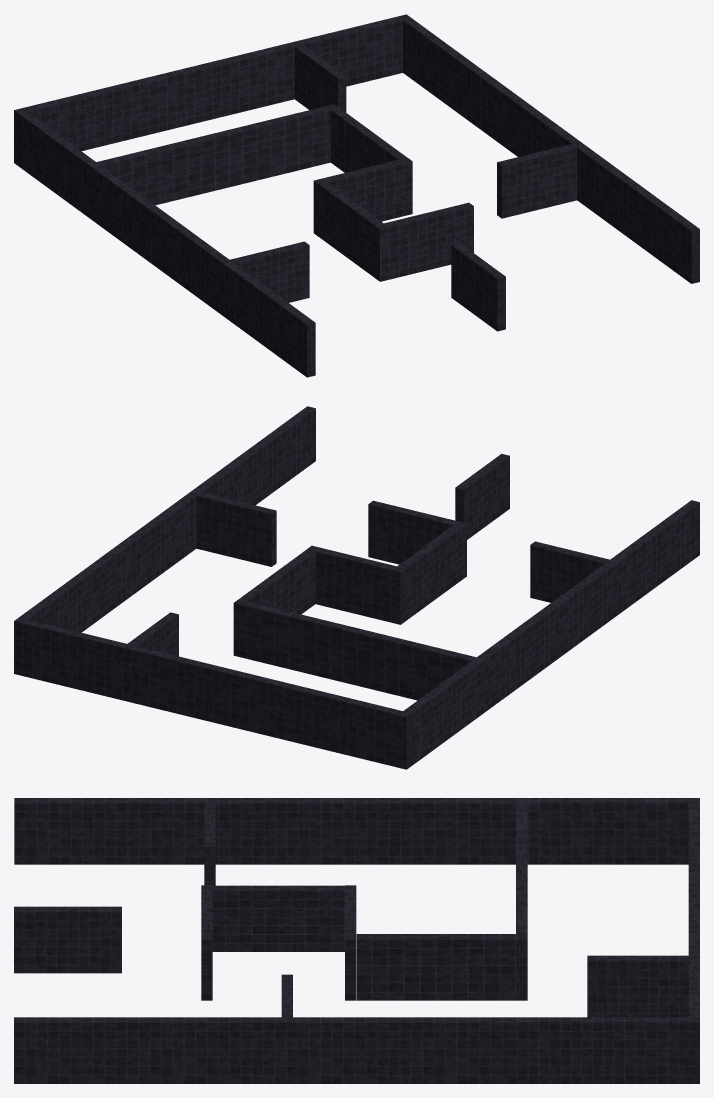
The picture shows the model from 3 angles, top to bottom: view 1: azimuth 30°, elevation 25°; view 2: azimuth 150°, elevation 25°; view 3: azimuth 270°, elevation 25°; orthographic projection. The views are drawn at different scales.
Parts seen in each view (by area): view 1: polySurface9, polySurface7, polySurface11, pCube65, pCube70, pCube71, pCube68, pCube69, pCube64, pCube72, pCube67, pCube54; view 2: polySurface9, polySurface7, polySurface11, pCube65, pCube68, pCube71, pCube70, pCube69, pCube64, pCube72, pCube67, pCube54; view 3: polySurface11, polySurface7, pCube67, pCube69, pCube64, pCube54, polySurface9, pCube65, pCube68, pCube70, pCube72, pCube71.
Boxes of the visible parts, x1,y1,x2,y2 form: polySurface9: [14, 14, 410, 166]; polySurface7: [19, 111, 315, 377]; polySurface11: [403, 18, 699, 283]; pCube65: [96, 104, 338, 205]; pCube70: [375, 202, 473, 281]; pCube71: [497, 144, 576, 218]; pCube68: [313, 157, 412, 236]; pCube69: [318, 182, 383, 277]; pCube64: [451, 243, 505, 331]; pCube72: [230, 241, 309, 302]; pCube67: [330, 108, 406, 172]; pCube54: [294, 44, 346, 112]; polySurface9: [14, 617, 411, 769]; polySurface7: [403, 500, 699, 765]; polySurface11: [19, 406, 315, 632]; pCube65: [233, 599, 476, 700]; pCube68: [307, 545, 405, 624]; pCube71: [196, 492, 276, 566]; pCube70: [368, 500, 466, 579]; pCube69: [397, 525, 461, 620]; pCube64: [455, 453, 509, 539]; pCube72: [530, 541, 609, 602]; pCube67: [239, 549, 315, 614]; pCube54: [127, 612, 178, 656]; polySurface11: [14, 1017, 688, 1083]; polySurface7: [14, 798, 688, 864]; pCube67: [356, 934, 515, 1000]; pCube69: [212, 885, 344, 951]; pCube64: [14, 906, 121, 973]; pCube54: [587, 955, 688, 1017]; polySurface9: [688, 798, 699, 1083]; pCube65: [516, 803, 527, 1000]; pCube68: [345, 885, 356, 1000]; pCube70: [201, 885, 212, 1000]; pCube72: [204, 803, 215, 885]; pCube71: [281, 974, 292, 1017].
Size of the model in its own units: 114 by 14.74 by 148.
Materials: 1 (1 with a texture image).
